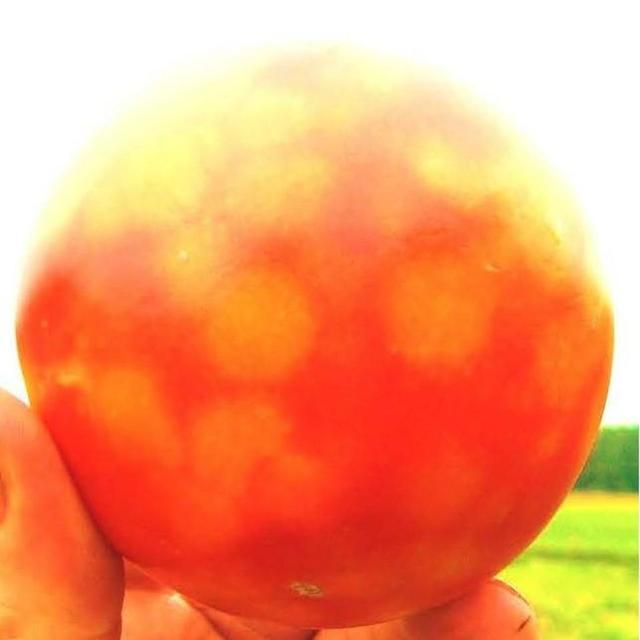Spotted wilt Virus Fruit: (61, 12, 130, 82)
